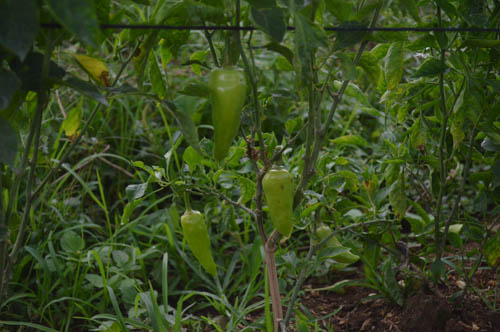ChiliPepper: (210, 68, 240, 168), (174, 215, 217, 282), (260, 171, 297, 239)
